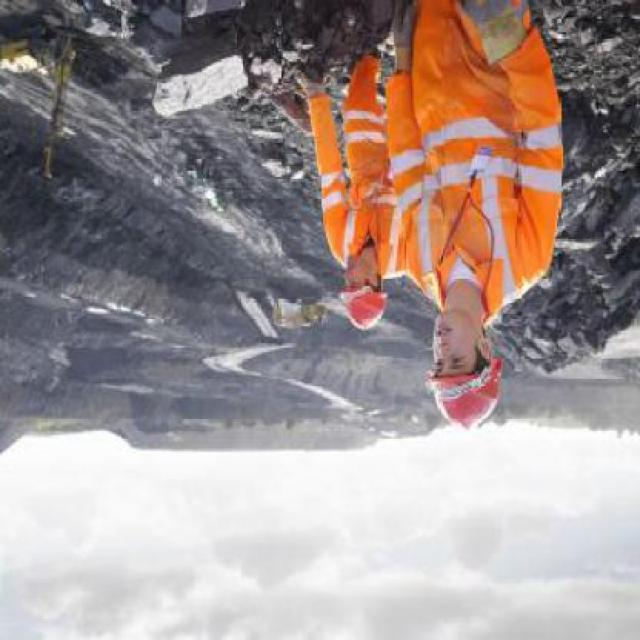safetyhelmet: (428, 296, 503, 432), (332, 250, 392, 334)
